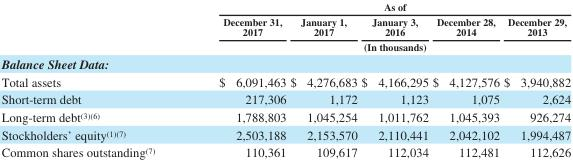table: (0, 0, 570, 159)
table column: (0, 0, 186, 159), (186, 0, 287, 159), (287, 0, 358, 159), (358, 0, 429, 159), (429, 0, 500, 159), (500, 0, 570, 159)
table column header: (0, 0, 570, 54)
table projected row header: (0, 54, 570, 72)
table row: (0, 13, 570, 39), (0, 54, 570, 72), (0, 72, 570, 90), (0, 107, 570, 125), (0, 125, 570, 143), (0, 90, 570, 107), (0, 143, 570, 159), (0, 39, 570, 54), (0, 0, 570, 13)
table spanning cell: (186, 39, 570, 54), (186, 0, 570, 13)
